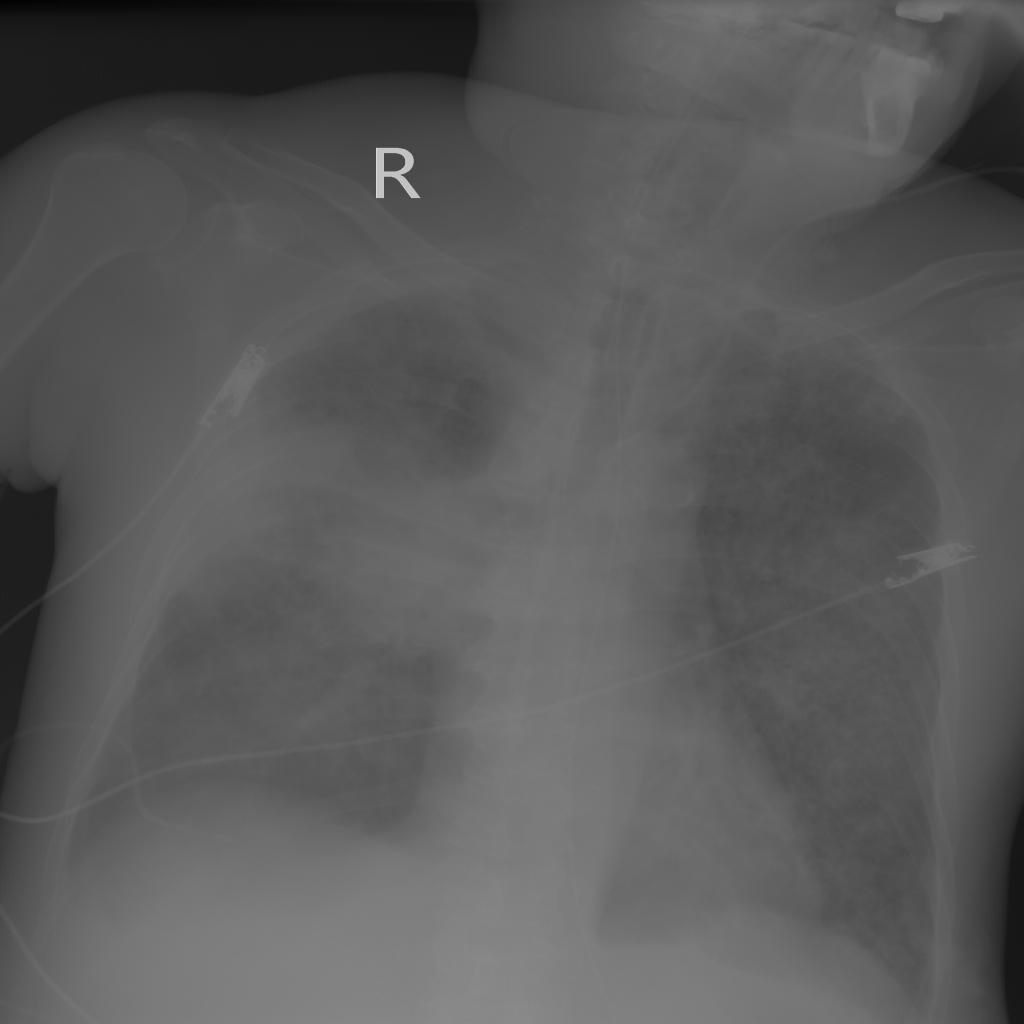Nodule: (336, 473, 515, 669)
